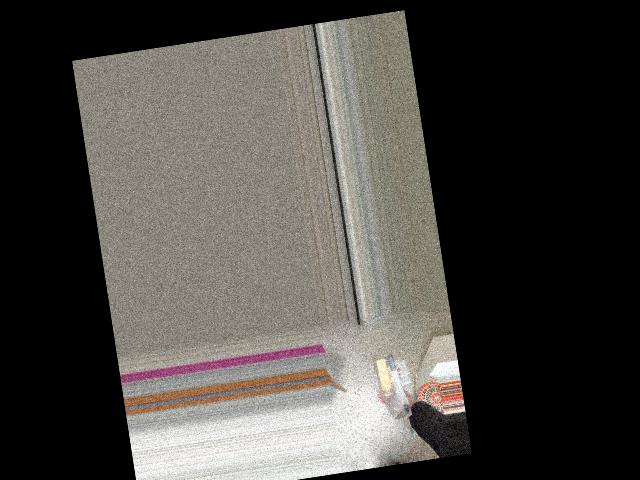cheese: (373, 353, 412, 420)
